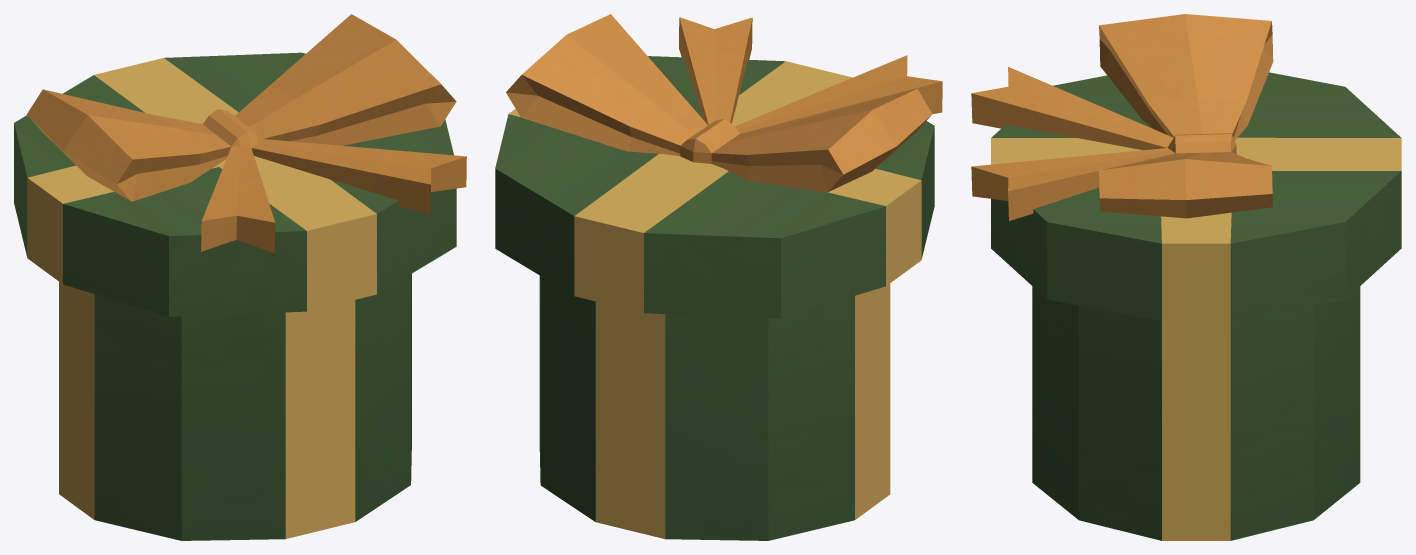
Rendered from gift_box_B_Round.obj.
3 views of the same model, side by side, from view 1: azimuth 30°, elevation 25°; view 2: azimuth 150°, elevation 25°; view 3: azimuth 270°, elevation 25° (orthographic). The views are drawn at different scales.
Parts seen in each view (by area): view 1: gift_box_B_Round; view 2: gift_box_B_Round; view 3: gift_box_B_Round.
Part boxes in pixels (x1=…): gift_box_B_Round: x1=14, y1=14, x2=466, y2=540; gift_box_B_Round: x1=495, y1=14, x2=942, y2=540; gift_box_B_Round: x1=971, y1=14, x2=1401, y2=540.
Bounding box in the file's own units: 0.4597 × 0.4562 × 0.4677.
